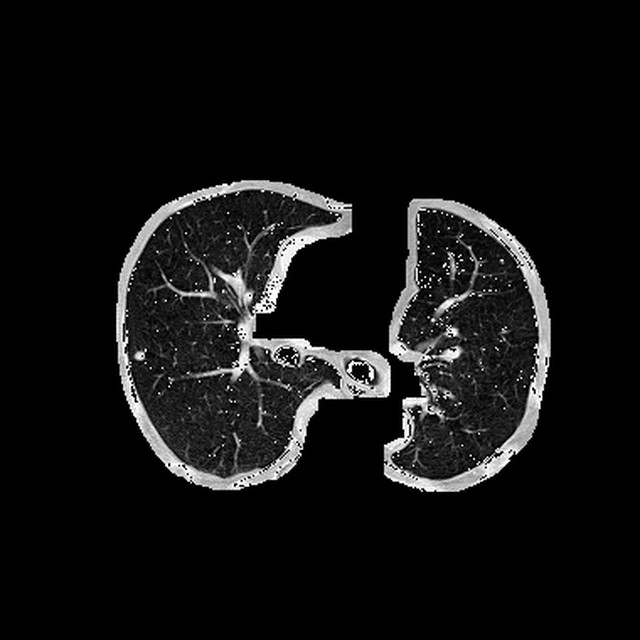PN: (133, 349, 147, 362)
